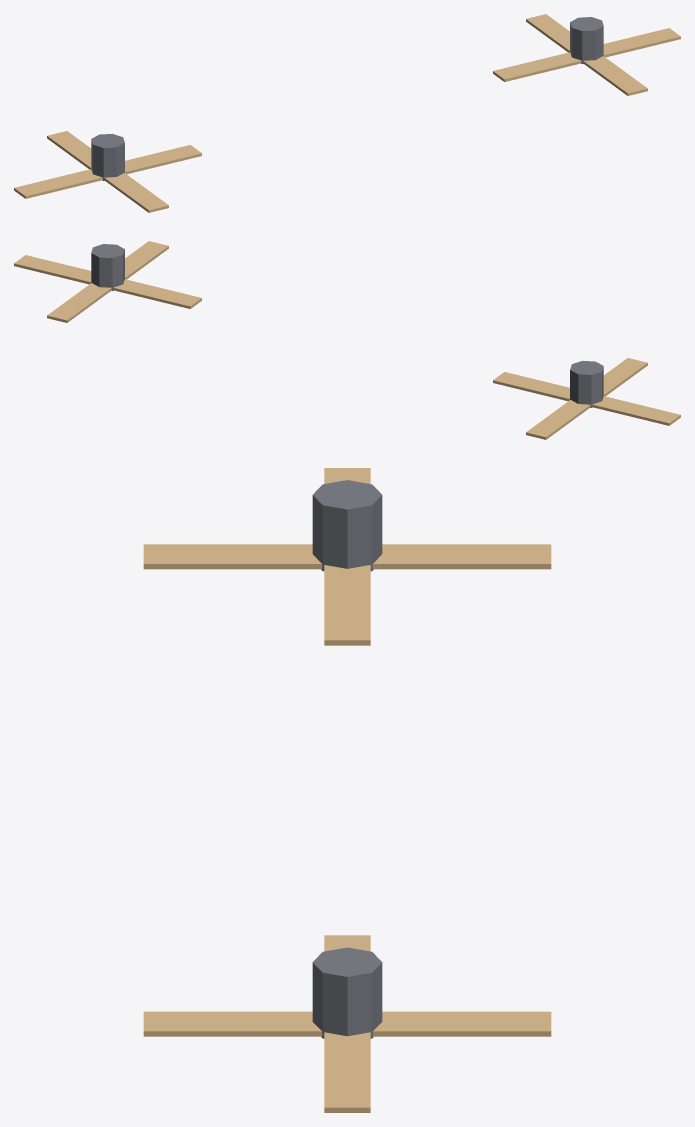
File: diner_fans.glb
3 renders of one model, top to bottom at view 1: azimuth 30°, elevation 25°; view 2: azimuth 150°, elevation 25°; view 3: azimuth 270°, elevation 25°, orthographic. The views are drawn at different scales.
Visible parts, largest first — view 1: diner_fans; view 2: diner_fans; view 3: diner_fans.
Boxes of the visible parts, left/top/right/bottom form: diner_fans: left=14, top=14, right=680, bottom=212; diner_fans: left=14, top=241, right=680, bottom=439; diner_fans: left=143, top=468, right=551, bottom=1112.
Bounding box in the file's own units: 5.2 × 0.25 × 1.4.
